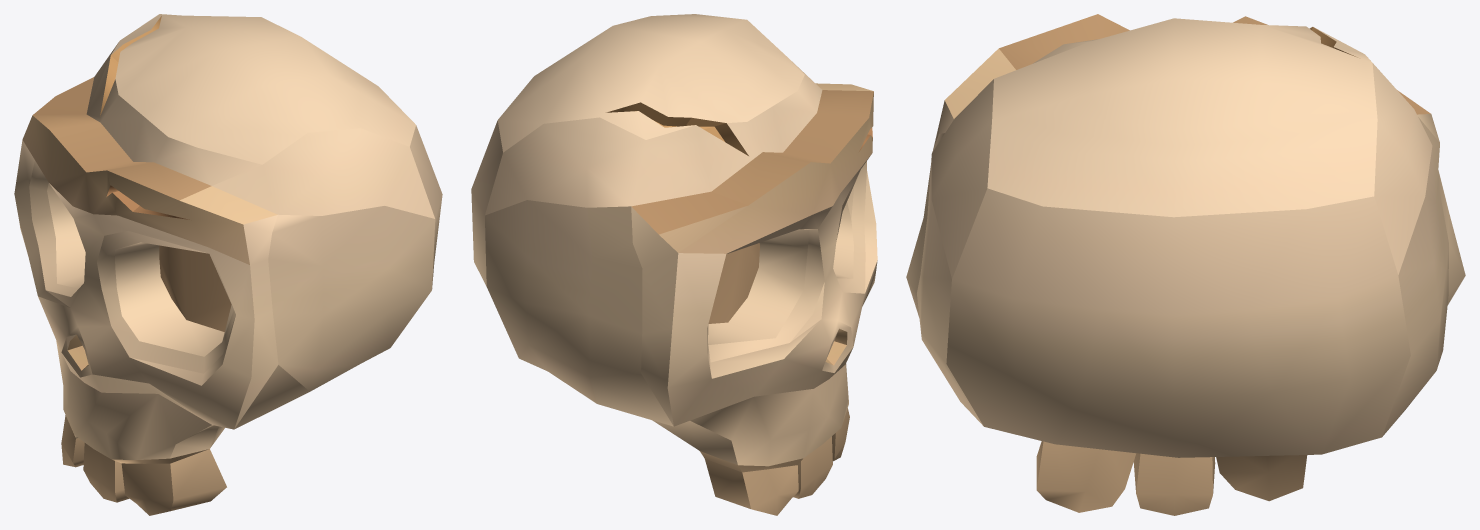
The model's file is Skull_2.glb.
3 renders of one model, left to right at view 1: azimuth 30°, elevation 25°; view 2: azimuth 150°, elevation 25°; view 3: azimuth 270°, elevation 25°, orthographic. The views are drawn at different scales.
Visible parts, largest first — view 1: Skull_2; view 2: Skull_2; view 3: Skull_2.
Part boxes in pixels (x1,y1,x2,y2): Skull_2: [14, 14, 442, 515]; Skull_2: [471, 14, 877, 515]; Skull_2: [906, 14, 1465, 515].
Size of the model in its own units: 0.3066 by 0.3756 by 0.3521.
1 material, 1 textured.
